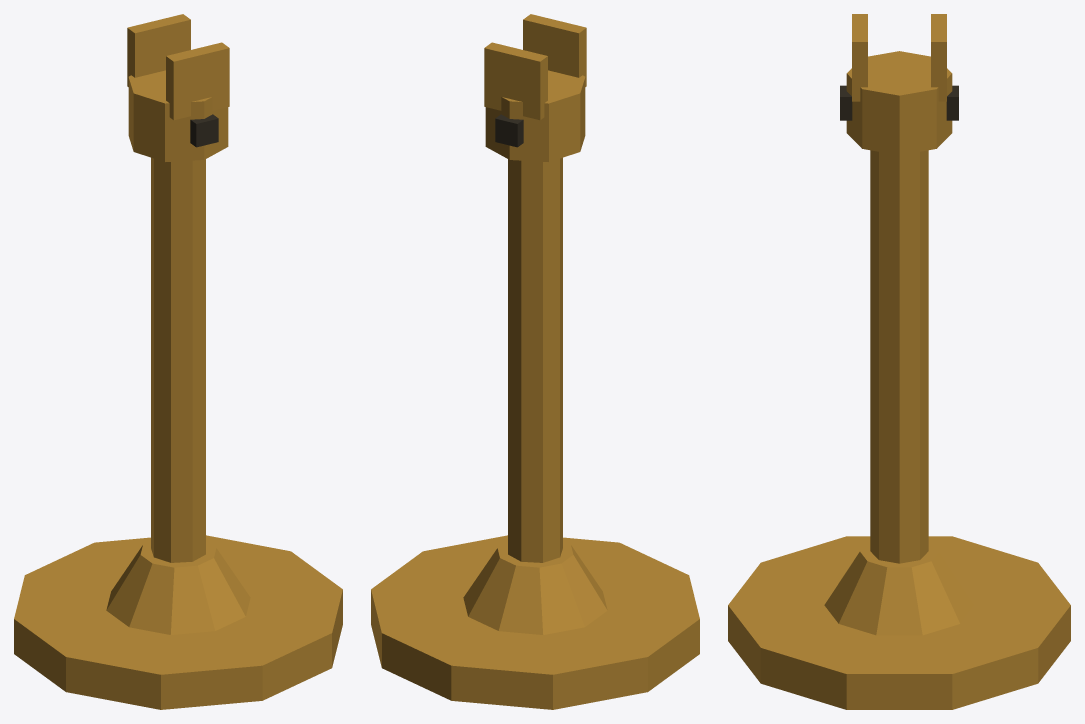
Rendered from MarketScalesBase.fbx.
3 views of the same model, side by side, from view 1: azimuth 30°, elevation 25°; view 2: azimuth 150°, elevation 25°; view 3: azimuth 270°, elevation 25° (orthographic).
Visible parts, largest first — view 1: MarketScalesBase; view 2: MarketScalesBase; view 3: MarketScalesBase.
Part boxes in pixels (<box>): MarketScalesBase: <box>14,14,342,709</box>; MarketScalesBase: <box>371,14,699,709</box>; MarketScalesBase: <box>728,14,1070,709</box>.
Size of the model in its own units: 24.73 by 51.3 by 26.
Materials: 2 (2 with a texture image).
